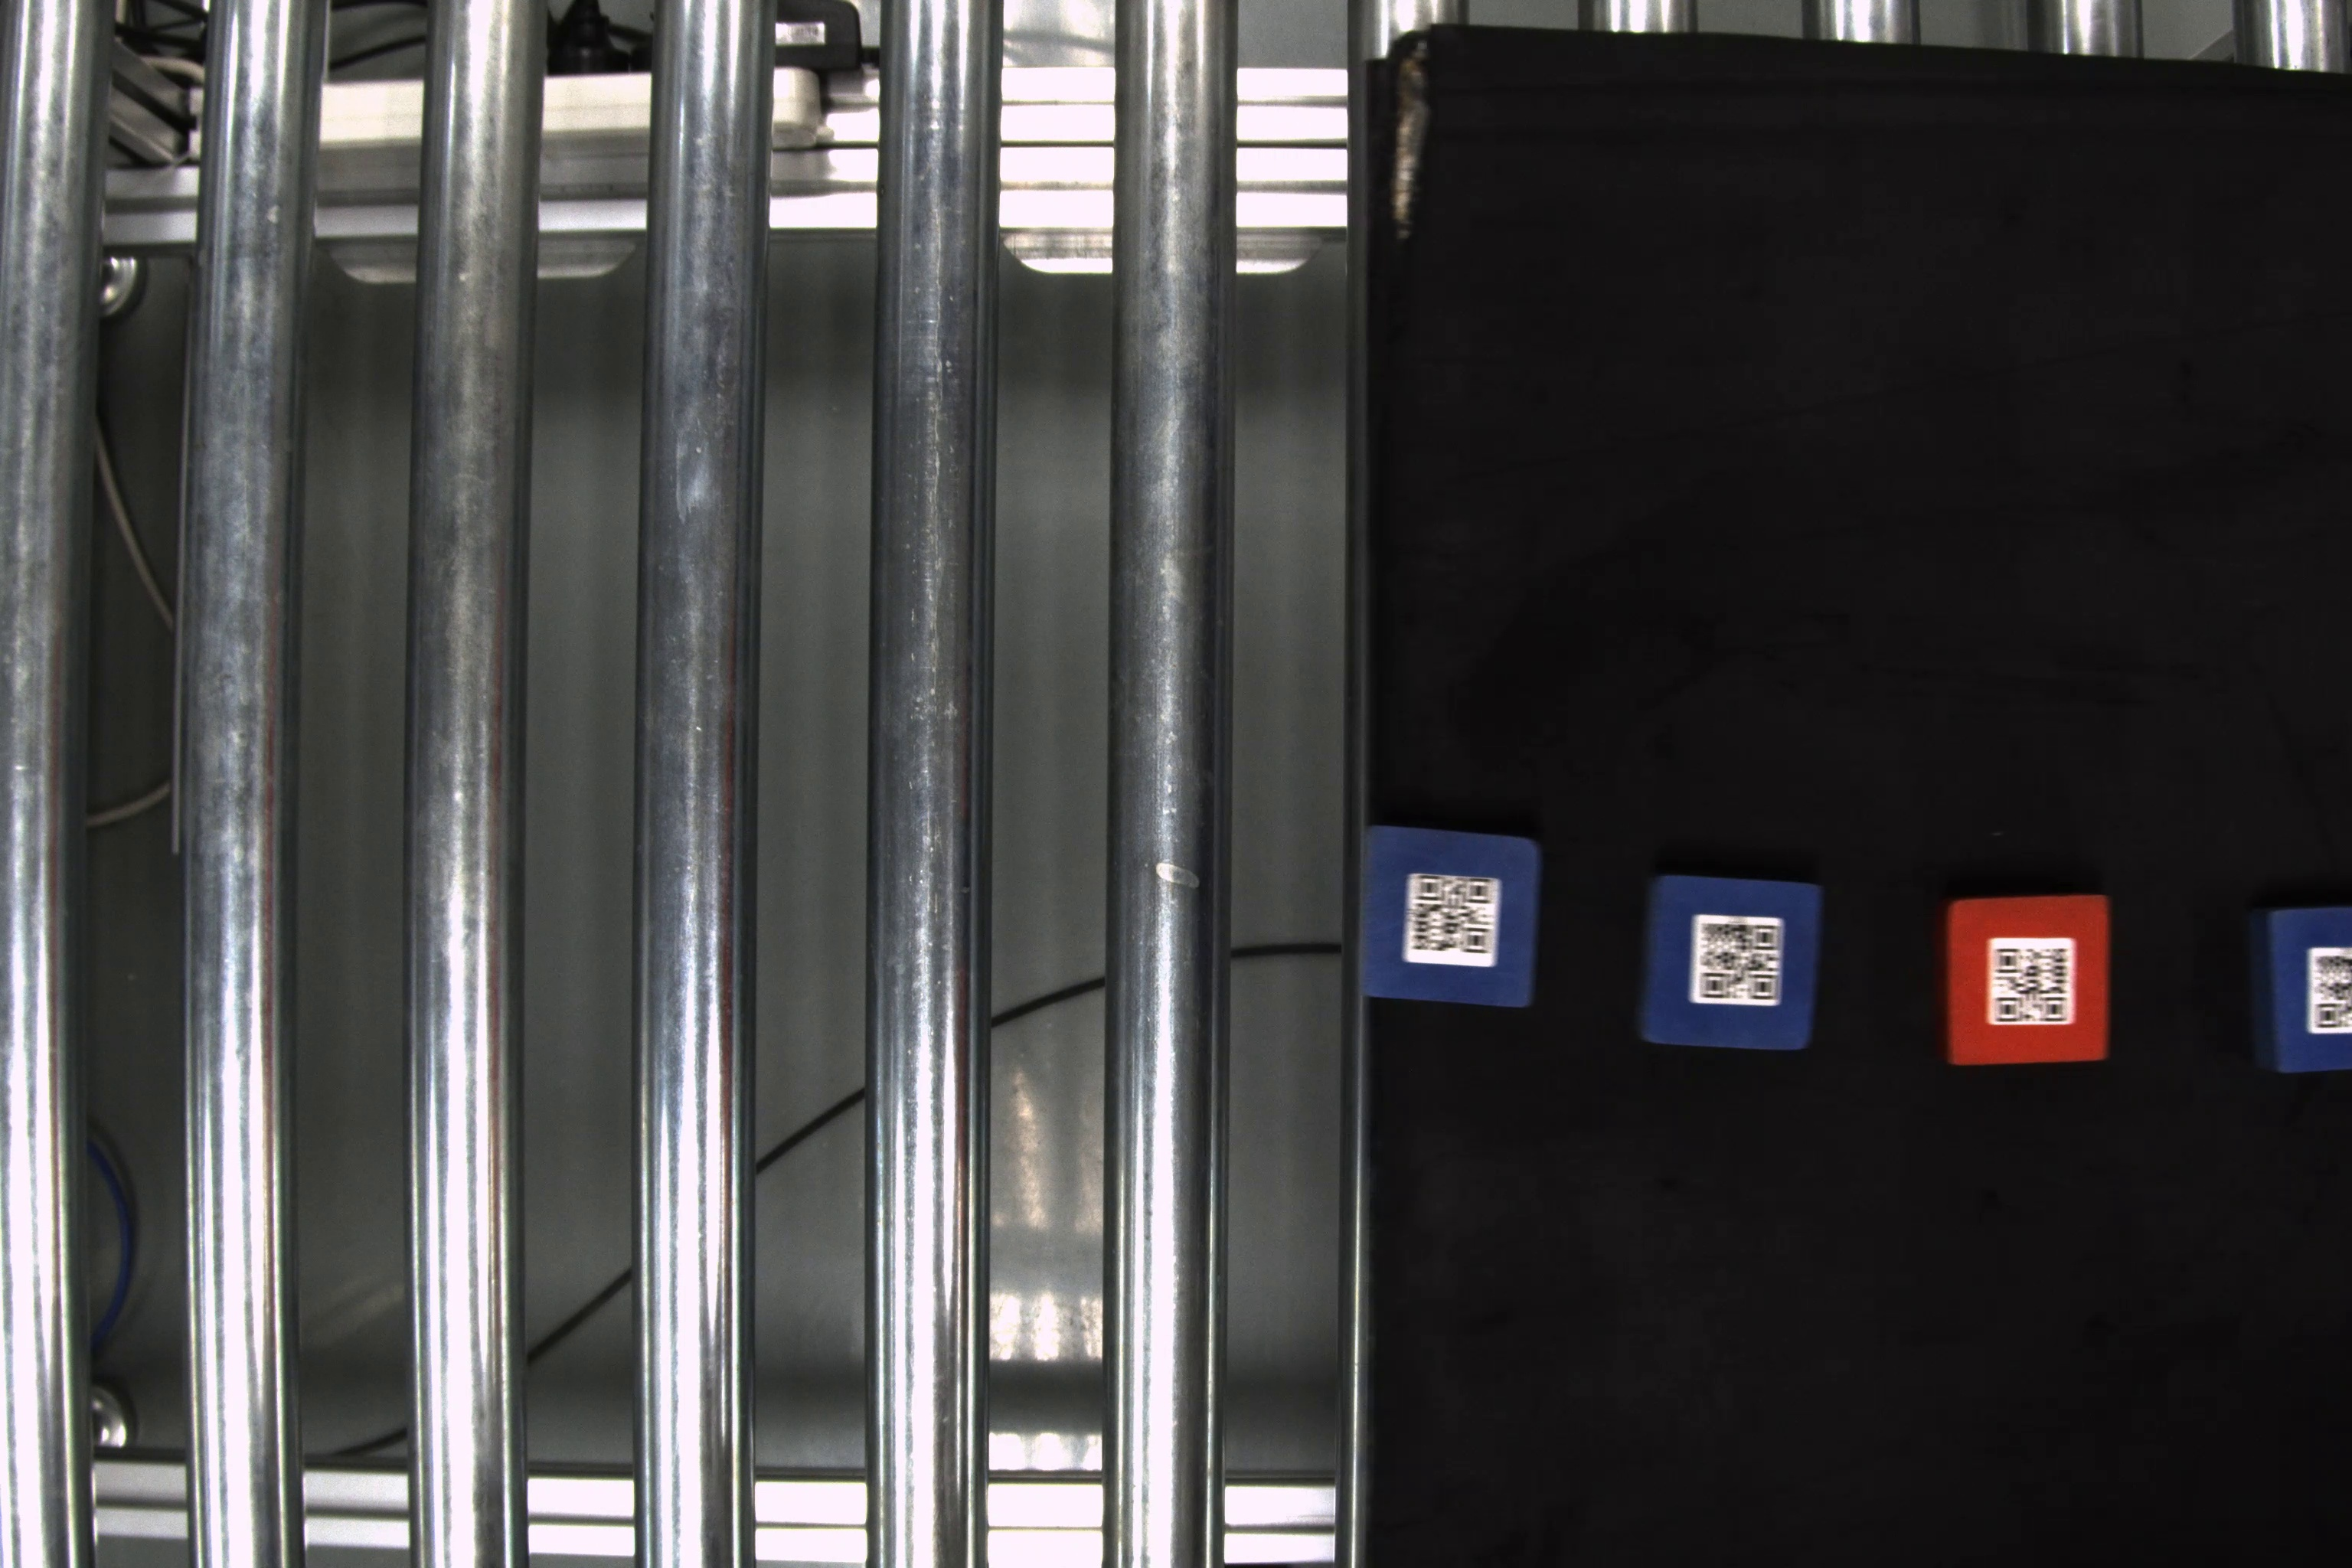wood: (1354, 821, 1543, 1015), (1641, 873, 1825, 1062), (1934, 889, 2114, 1069), (2254, 899, 2352, 1078)
